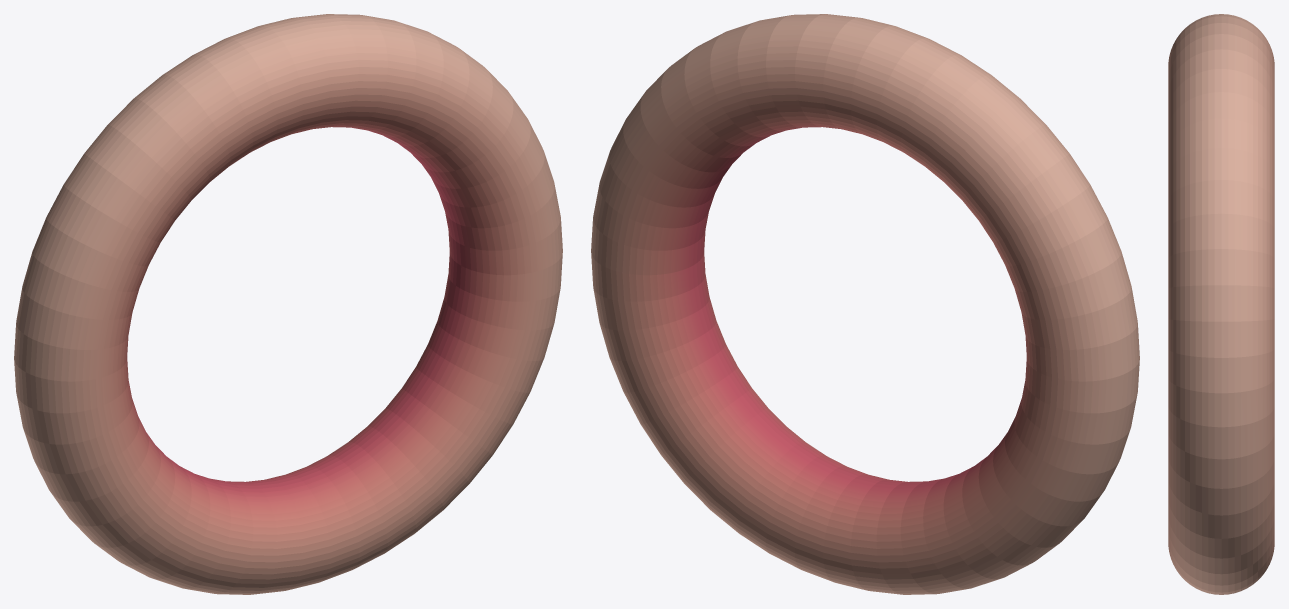
3 views of the same model, side by side, from view 1: azimuth 30°, elevation 25°; view 2: azimuth 150°, elevation 25°; view 3: azimuth 270°, elevation 25° (orthographic). The views are drawn at different scales.
Parts seen in each view (by area): view 1: world; view 2: world; view 3: world.
Boxes of the visible parts, <box> form: world: <box>14,14,562,594</box>; world: <box>591,14,1139,594</box>; world: <box>1168,14,1274,594</box>.
Size of the model in its own units: 32.67 by 32.6 by 5.99.
